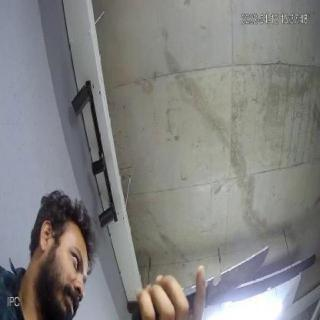knife: (191, 243, 271, 296)
